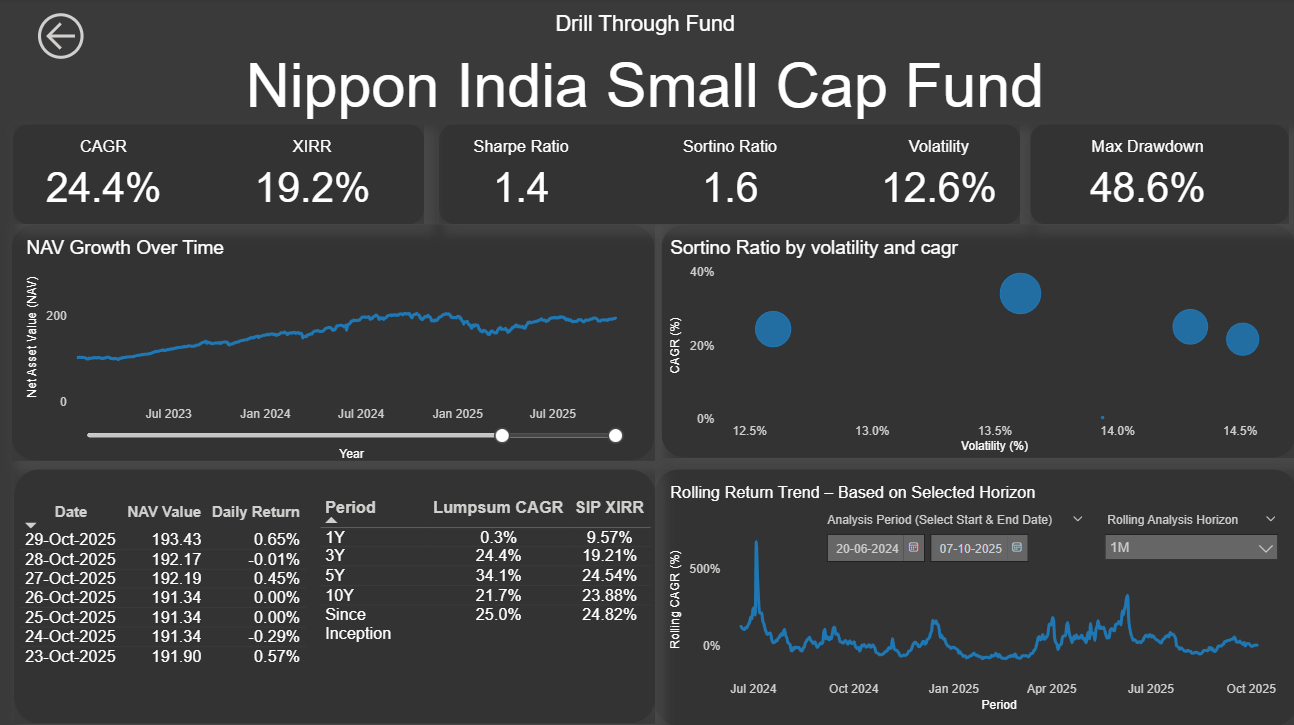

The page's visual inventory and layout, read from the dashboard file:
{"tool":"powerbi","page":{"name":"MF  Drill through","canvas":[1280,720],"ordinal":1},"visuals":[{"type":"group","id":"g1","title":"Background","box":[16.8,123.4,1263.4,591.1],"z":0},{"type":"shape","box":[16.8,222,630.9,232],"z":0,"group":"g1"},{"type":"slicer","fields":{"Values":["public rolling_return.nav_date"]},"box":[804.7,501,276.4,59.8],"z":0,"group":"g2"},{"type":"card","title":"Drill Through Fund","fields":{"Values":["Min(public fund_master.fund_name)"]},"box":[15.7,8.7,1246.5,115.4],"z":1000},{"type":"shape","box":[654.7,222,622.5,229.3],"z":1000,"group":"g1"},{"type":"slicer","title":"rolling return period","fields":{"Values":["public rolling_return.horizon"]},"box":[1079.2,500.5,191,59.8],"z":1000,"group":"g2"},{"type":"actionButton","box":[36.5,8.4,64.5,57.5],"z":2000},{"type":"shape","box":[647.9,462.2,632.3,252.4],"z":2000,"group":"g1"},{"type":"cardVisual","fields":{"Data":["_DrllMeasures.KPI_Lumpsum_CAGR_Selected","_DrllMeasures.KPI_SIP_XIRR_Selected","_DrllMeasures.KPI_Lumpsum_Sharpe_Selected","_DrllMeasures.KPI_Lumpsum_Sortino_Selected","_DrllMeasures.KPI_Lumpsum_Volatility_Selected","_DrllMeasures.Max_Drawdown"]},"box":[0,117.8,1245,112.2],"z":3000},{"type":"shape","box":[19.9,462.2,629.5,249.6],"z":3000,"group":"g1"},{"type":"shape","box":[436,123.4,570.6,98.1],"z":4000,"group":"g1"},{"type":"lineChart","title":"NAV Growth Over Time","fields":{"Y":["Avg(public nav_history.nav_value)"],"Category":["public nav_history.nav_date.Variation.Date Hierarchy.Year","public nav_history.nav_date.Variation.Date Hierarchy.Month","public nav_history.nav_date.Variation.Date Hierarchy.Day"]},"box":[26.6,234.1,611.3,222.9],"z":4000},{"type":"shape","box":[1016.4,123.4,253.8,98.1],"z":5000,"group":"g1"},{"type":"scatterChart","fields":{"X":["public risk_metrics.volatility"],"Y":["public risk_metrics.cagr"],"Size":["Avg(public risk_metrics.sortino)"]},"box":[658.9,234.1,611.3,217.3],"z":5000},{"type":"shape","box":[18.2,123.4,403.8,98.1],"z":6000,"group":"g1"},{"type":"tableEx","fields":{"Values":["public daily_return.Formatted Date","public daily_return.nav_value","public daily_return.daily_return"]},"box":[19.6,490.7,294.4,229.9],"z":6000},{"type":"tableEx","fields":{"Values":["Period_Table.Period_Name","_DrllMeasures.KPI_Lumpsum_CAGR_Selected","_DrllMeasures.KPI_SIP_XIRR_Selected"]},"box":[314.1,485.9,341.1,211],"z":7000},{"type":"lineChart","fields":{"Category":["public rolling_return.nav_date.Variation.Date Hierarchy.Year","public rolling_return.nav_date.Variation.Date Hierarchy.Month","public rolling_return.nav_date.Variation.Date Hierarchy.Day"],"Y":["Avg(public rolling_return.cagr)"]},"box":[658.9,500.5,611.3,204.7],"z":8000},{"type":"group","id":"g2","title":"rolling return slicers","box":[804.7,500.5,465.5,60.3],"z":9000},{"type":"textbox","box":[658.9,471.1,374.3,29.4],"z":10000}]}

Visuals, with their boxes in screenshot pixels (x1, y1, x2, y2), scaled from the page's 1280x720 canvas onto the 1294x725 screenshot:
"Background" group: pyautogui.locateOnScreen(17, 124, 1293, 719)
shape: pyautogui.locateOnScreen(17, 224, 655, 457)
slicer - public rolling_return.nav_date: pyautogui.locateOnScreen(814, 504, 1093, 565)
"Drill Through Fund" card: pyautogui.locateOnScreen(16, 9, 1276, 125)
shape: pyautogui.locateOnScreen(662, 224, 1291, 454)
"rolling return period" slicer: pyautogui.locateOnScreen(1091, 504, 1284, 564)
actionButton: pyautogui.locateOnScreen(37, 8, 102, 66)
shape: pyautogui.locateOnScreen(655, 465, 1293, 720)
cardVisual - _DrllMeasures.KPI_Lumpsum_CAGR_Selected x _DrllMeasures.KPI_SIP_XIRR_Selected: pyautogui.locateOnScreen(0, 119, 1259, 232)
shape: pyautogui.locateOnScreen(20, 465, 657, 717)
shape: pyautogui.locateOnScreen(441, 124, 1018, 223)
"NAV Growth Over Time" lineChart: pyautogui.locateOnScreen(27, 236, 645, 460)
shape: pyautogui.locateOnScreen(1028, 124, 1284, 223)
scatterChart - public risk_metrics.volatility x public risk_metrics.cagr: pyautogui.locateOnScreen(666, 236, 1284, 455)
shape: pyautogui.locateOnScreen(18, 124, 427, 223)
tableEx - public daily_return.Formatted Date x public daily_return.nav_value: pyautogui.locateOnScreen(20, 494, 317, 724)
tableEx - Period_Table.Period_Name x _DrllMeasures.KPI_Lumpsum_CAGR_Selected: pyautogui.locateOnScreen(318, 489, 662, 702)
lineChart - public rolling_return.nav_date.Variation.Date Hierarchy.Year x public rolling_return.nav_date.Variation.Date Hierarchy.Month: pyautogui.locateOnScreen(666, 504, 1284, 710)
"rolling return slicers" group: pyautogui.locateOnScreen(814, 504, 1284, 565)
textbox: pyautogui.locateOnScreen(666, 474, 1045, 504)
